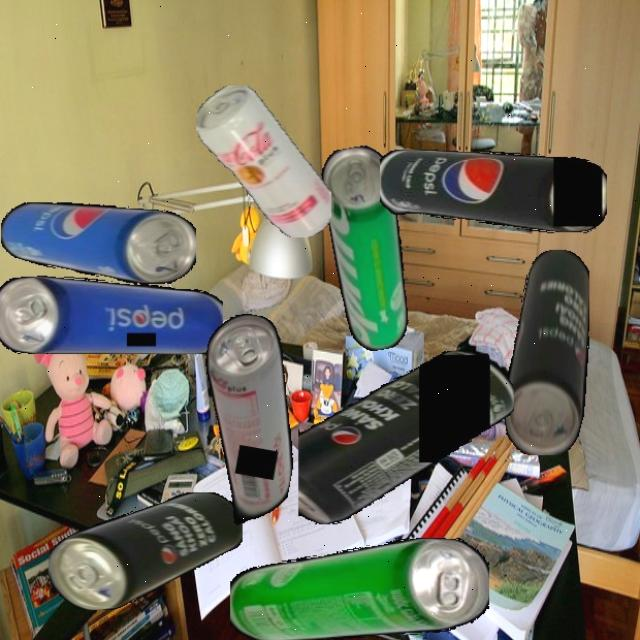debris: (297, 351, 514, 524), (178, 308, 317, 532), (229, 538, 489, 640), (49, 491, 242, 610), (317, 143, 420, 354), (195, 86, 331, 237), (379, 150, 607, 233), (0, 275, 223, 354), (504, 249, 589, 455), (0, 202, 196, 284)
